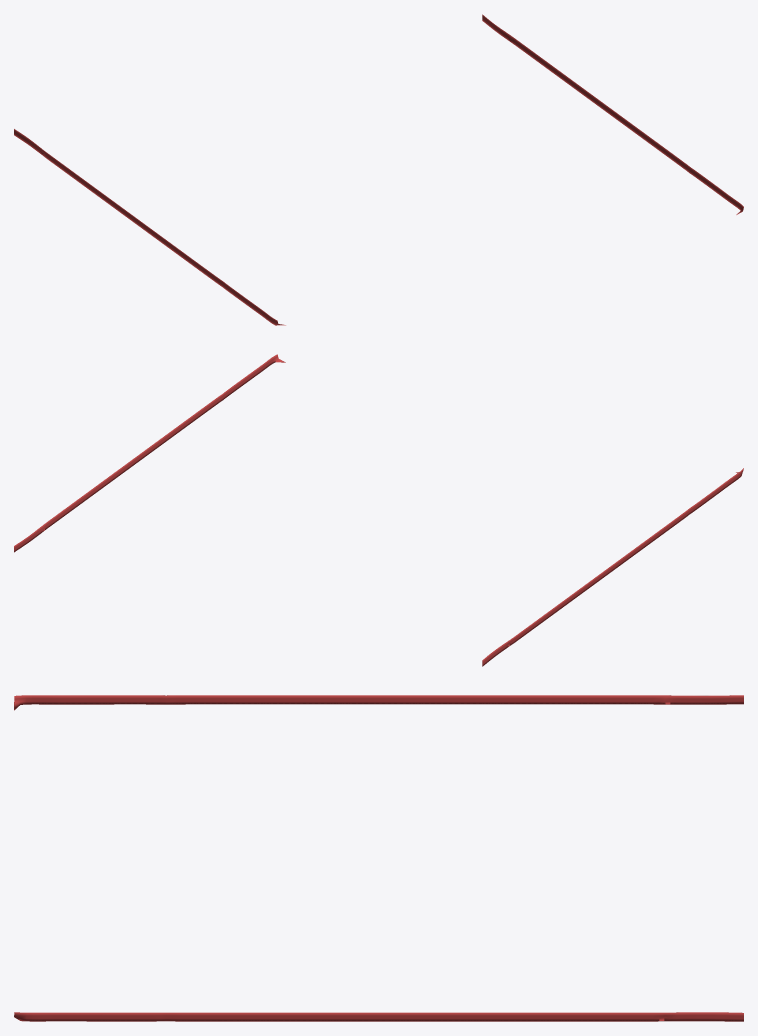
File: DT77_side_stripes_accent.glb
3 views of the same model, one above another, from view 1: azimuth 30°, elevation 25°; view 2: azimuth 150°, elevation 25°; view 3: azimuth 270°, elevation 25° (orthographic). The views are drawn at different scales.
Visible parts, largest first — view 1: MOD_NC_DT77_stripe_L, MOD_NC_DT77_stripe_R; view 2: MOD_NC_DT77_stripe_L, MOD_NC_DT77_stripe_R; view 3: MOD_NC_DT77_stripe_R, MOD_NC_DT77_stripe_L.
Part boxes in pixels (x1,y1,x2,y2): MOD_NC_DT77_stripe_L: (482,14,743,214); MOD_NC_DT77_stripe_R: (14,129,285,325); MOD_NC_DT77_stripe_L: (14,354,285,552); MOD_NC_DT77_stripe_R: (482,468,743,666); MOD_NC_DT77_stripe_R: (14,695,743,710); MOD_NC_DT77_stripe_L: (14,1012,743,1021).
Bounding box in the file's own units: 1.68 × 0.0224 × 1.63.
